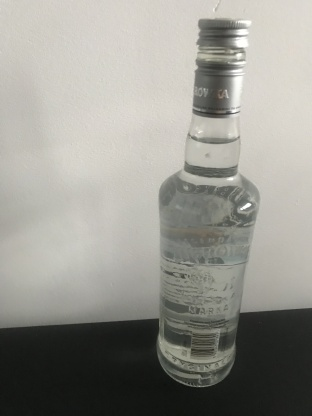nakretka: (190, 13, 252, 118)
